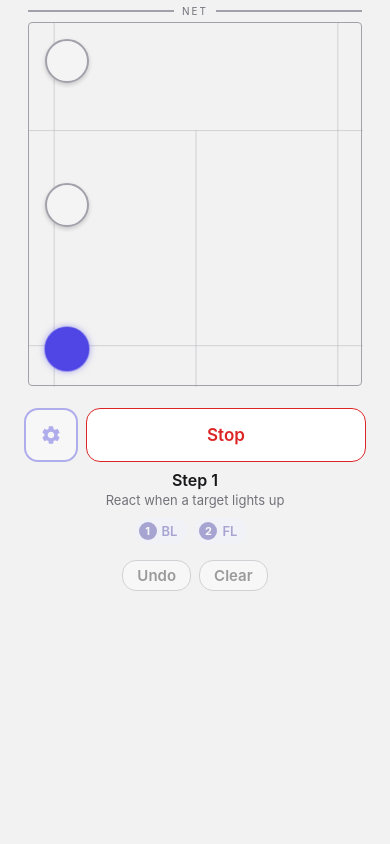
Test case: a remount over a running session rehydrates it — Stop and the armed target
The width and height of the screenshot is (390, 844).
Expected: the text "Stop" is shown, [207, 425, 245, 445]
Expected: the text "Start" is not shown
Stop drives the rehydrated panel through to a summary.
Click the button "Stop": (226, 435) [86, 408, 366, 462]
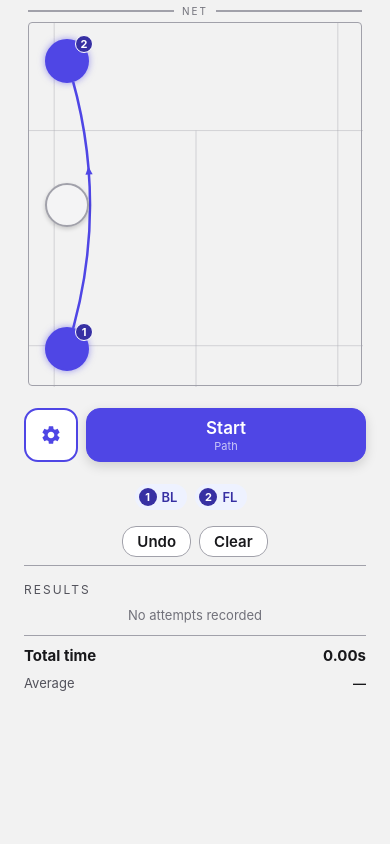
Expected: the text "Start" is shown, [206, 418, 246, 438]
